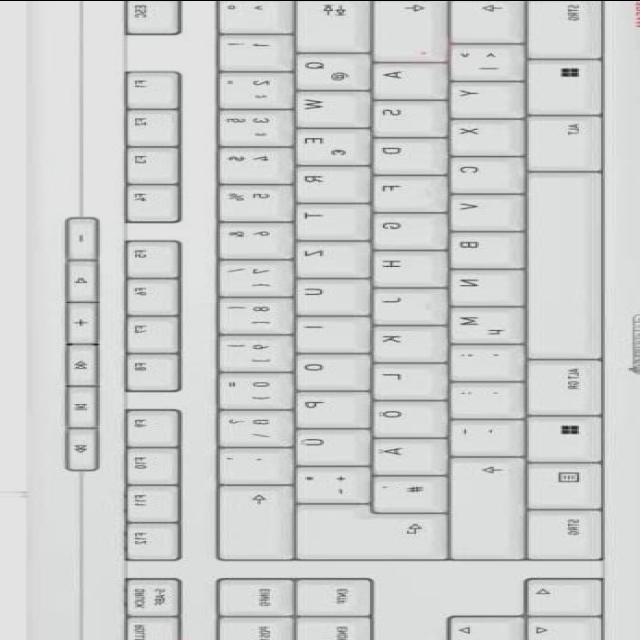0: (211, 371, 289, 407)
1: (213, 33, 289, 67)
2: (213, 70, 289, 106)
3: (213, 108, 289, 144)
4: (211, 145, 287, 180)
5: (211, 182, 289, 218)
6: (211, 219, 289, 256)
7: (213, 259, 287, 294)
8: (211, 295, 289, 331)
9: (211, 333, 289, 370)
a: (366, 61, 442, 96)
accent: (211, 447, 289, 482)
ae: (366, 437, 442, 472)
alt-left: (520, 113, 600, 170)
altgr-right: (520, 356, 600, 414)
b: (442, 229, 516, 266)
c: (442, 154, 516, 190)
caret: (211, 0, 287, 30)
comma: (442, 342, 518, 378)
d: (366, 136, 440, 171)
del: (211, 483, 287, 557)
e: (289, 126, 367, 162)
enter: (288, 502, 444, 557)
f: (366, 174, 442, 208)
g: (366, 211, 440, 246)
h: (366, 249, 440, 284)
hash: (366, 474, 442, 510)
i: (291, 315, 363, 349)
j: (366, 286, 442, 321)
k: (366, 325, 440, 360)
keyboard: (15, 0, 640, 640)
l: (366, 362, 440, 396)
less: (444, 42, 518, 79)
m: (442, 305, 518, 341)
minus: (444, 417, 516, 454)
n: (444, 268, 518, 303)
o: (289, 352, 363, 388)
oe: (366, 399, 440, 434)
p: (289, 390, 365, 425)
plus: (289, 465, 367, 501)
point: (444, 381, 516, 416)
q: (289, 51, 367, 88)
r: (291, 164, 365, 200)
s: (366, 99, 440, 133)
shift-left: (444, 0, 520, 38)
shift-lock: (364, 0, 442, 58)
shift-right: (442, 457, 518, 557)
space: (518, 171, 600, 355)
ss: (211, 408, 289, 445)
strg-left: (520, 0, 600, 56)
strg-right: (520, 507, 600, 559)
t: (291, 202, 365, 237)
tab: (289, 0, 365, 48)
u: (289, 277, 365, 312)
ue: (289, 427, 367, 463)
v: (444, 193, 516, 227)
w: (289, 90, 365, 124)
x: (444, 118, 516, 153)
y: (444, 81, 518, 116)
z: (291, 239, 367, 275)
